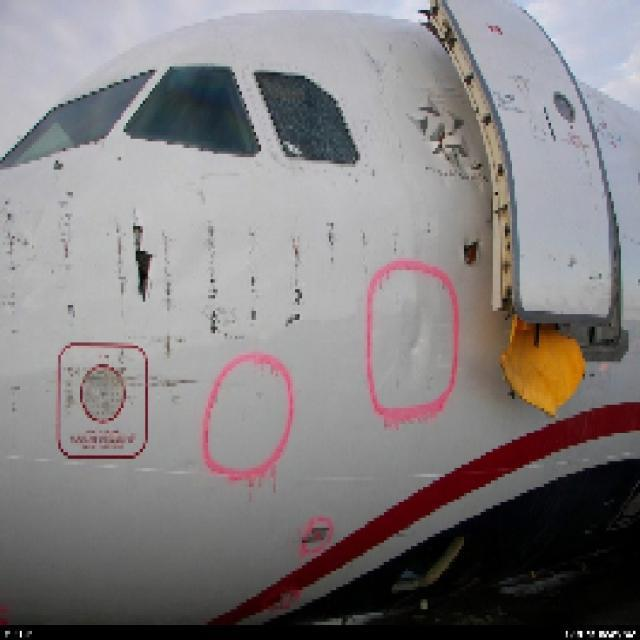crack: (126, 222, 160, 302), (457, 231, 492, 274)
dent: (398, 305, 443, 370)
